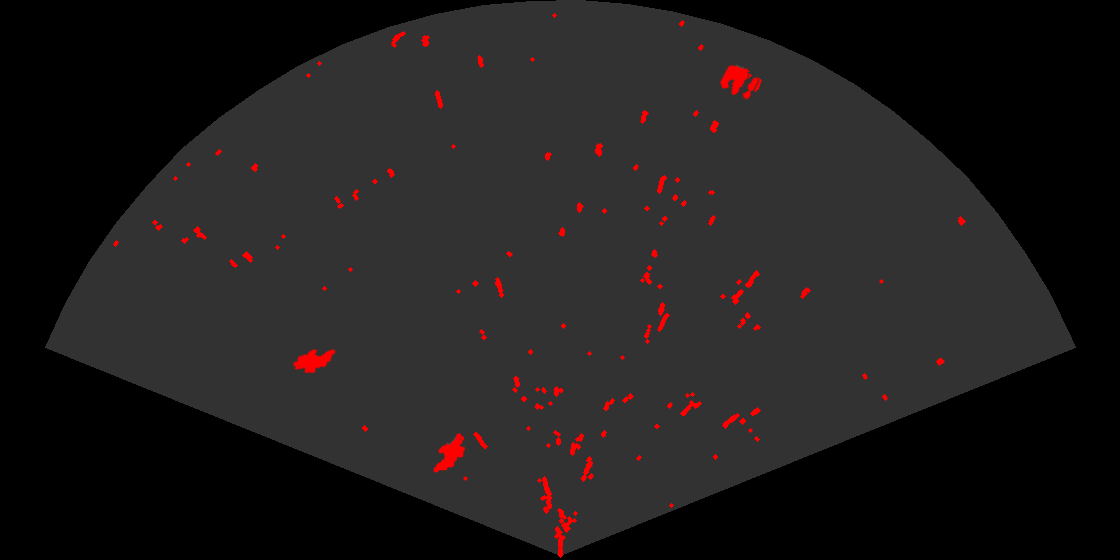AUV: (432, 432, 467, 474), (291, 347, 337, 375)
ball: (718, 63, 760, 101)
